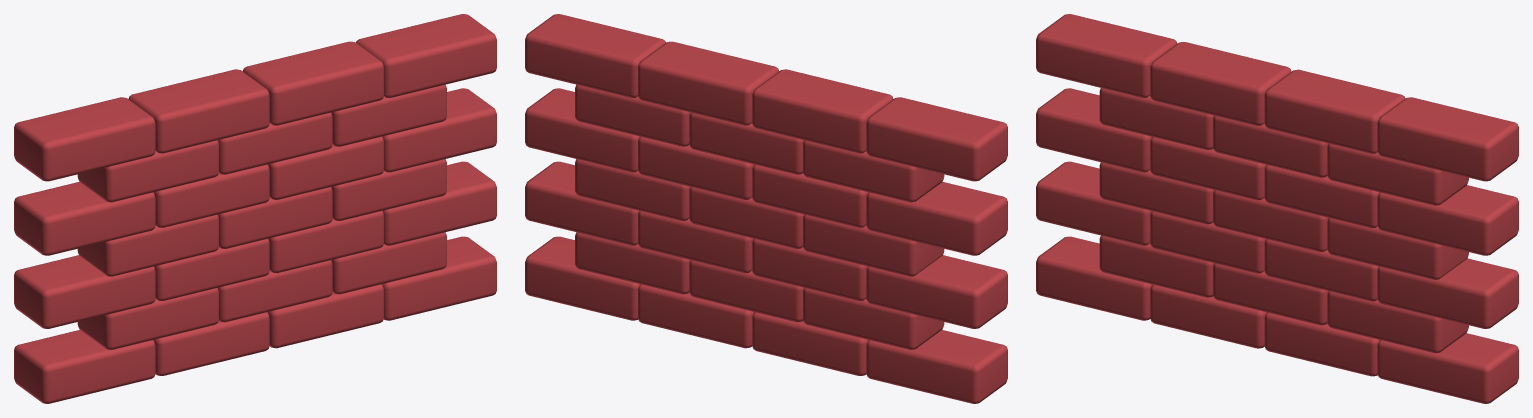
Rendered from Wall.fbx.
3 views of the same model, side by side, from view 1: azimuth 30°, elevation 25°; view 2: azimuth 150°, elevation 25°; view 3: azimuth 330°, elevation 25° (orthographic).
Visible parts, largest first — view 1: brick (31), brick (23), brick (39), brick (22), brick (21), brick (35), brick (24), brick (25), brick (32), brick (42), brick (30), brick (46) (+35 smaller); view 2: brick (35), brick (39), brick (6), brick (46), brick (25), brick (32), brick (42), brick (30), brick (47), brick (38), brick (26), brick (45) (+29 smaller); view 3: brick (22), brick (21), brick (23), brick (32), brick (42), brick (25), brick (39), brick (35), brick (24), brick (31), brick (43), brick (27) (+29 smaller).
Boxes of the visible parts, x1,y1,x2,y2 form: brick (31): (14,330,155,403); brick (23): (244,41,383,123); brick (39): (14,182,155,255); brick (22): (129,69,269,153); brick (21): (15,97,155,181); brick (35): (14,255,155,328); brick (24): (356,14,496,97); brick (25): (382,236,496,320); brick (32): (383,162,496,245); brick (42): (382,88,496,172); brick (30): (77,288,218,349); brick (46): (14,120,155,181); brick (35): (866,256,1007,328); brick (39): (866,182,1007,255); brick (6): (866,330,1007,401); brick (46): (866,117,1007,181); brick (25): (525,236,639,320); brick (32): (525,161,638,245); brick (42): (525,89,639,172); brick (30): (803,288,944,349); brick (47): (803,141,944,202); brick (38): (803,215,944,276); brick (26): (638,284,754,348); brick (45): (752,92,892,153); brick (22): (1150,42,1290,122); brick (21): (1036,14,1176,94); brick (23): (1264,69,1405,153); brick (32): (1377,258,1518,328); brick (42): (1377,185,1518,255); brick (25): (1377,333,1518,403); brick (39): (1036,88,1151,172); brick (35): (1036,161,1151,245); brick (24): (1377,97,1518,178); brick (31): (1036,236,1152,320); brick (43): (1377,120,1518,181); brick (27): (1327,291,1468,353).
Bounding box in the file's own units: 48.45 × 26.67 × 6.05.
